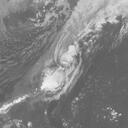cyclone: (41, 51, 75, 95)
